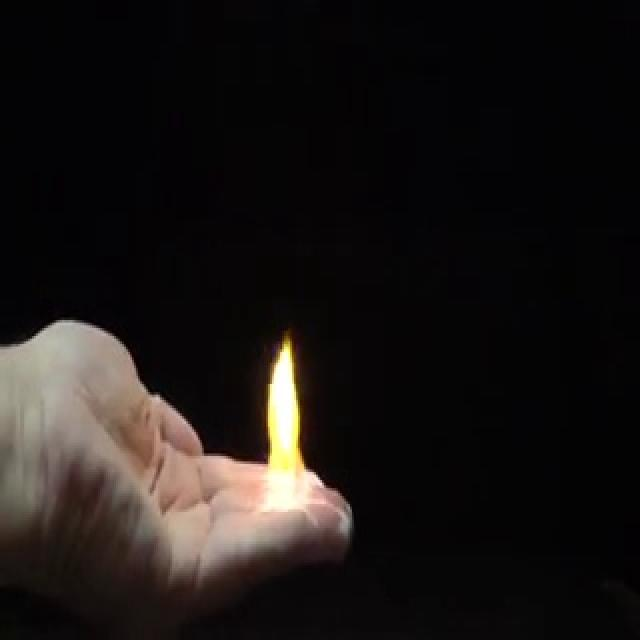fire: (258, 328, 314, 515)
